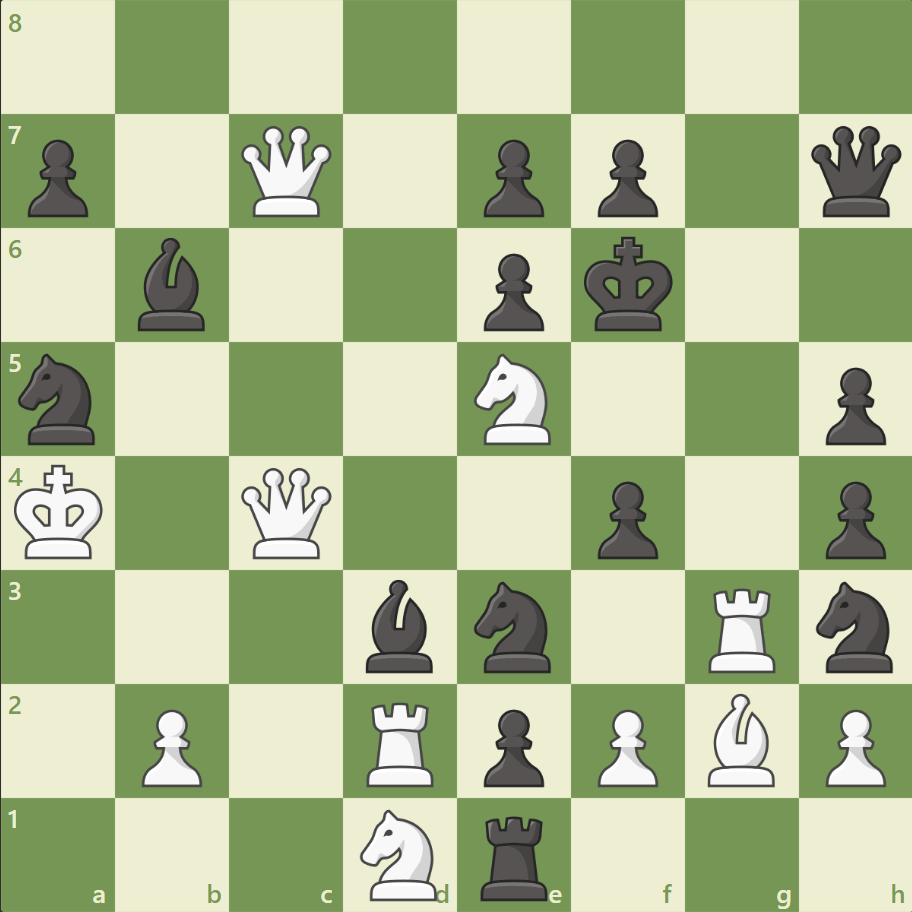B: (698, 687, 782, 790)
K: (11, 458, 111, 566)
N: (351, 802, 449, 904), (465, 348, 562, 450)
P: (133, 700, 208, 791), (588, 700, 662, 791), (815, 700, 889, 791)
Q: (237, 122, 336, 222), (237, 463, 336, 562)
R: (700, 579, 783, 676), (360, 693, 442, 790)
b: (131, 233, 215, 336), (358, 574, 442, 676)
k: (579, 231, 679, 339)
n: (11, 348, 108, 450), (465, 575, 562, 677), (806, 575, 903, 677)
p: (20, 132, 95, 223), (474, 132, 549, 223), (474, 246, 549, 337), (474, 700, 549, 791), (588, 132, 662, 223), (815, 359, 889, 450), (588, 473, 662, 564), (815, 473, 889, 564)
q: (805, 122, 904, 222)
r: (473, 806, 556, 904)
